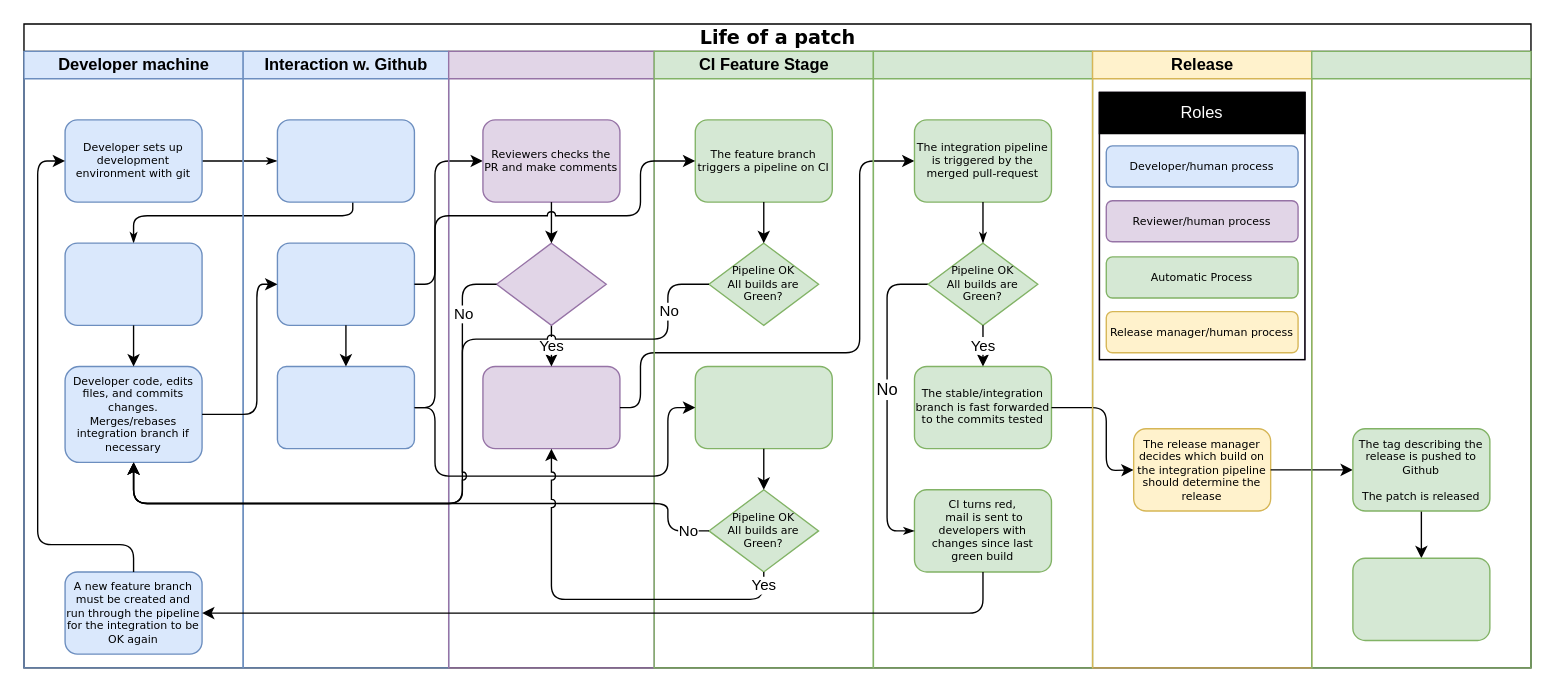
The diagram is 1555 pixels wide and 692 high, and some of its shapes have lost their labels. Each missing label, with the box of its shape:
A pull-request (PR) is made and reviewers are added to the PR: (276, 365, 414, 449)
CI Integration Stage: (872, 50, 1093, 668)
CI Stable/Release stage: (1310, 50, 1531, 668)
Developer creates feature branch for his/her/their work: (64, 242, 202, 325)
Developer pulls latest code from Github: (276, 119, 414, 202)
Developer pushes commits to feature branch on Github: (276, 242, 414, 325)
Developer/reviewer merges PR in Github: (482, 365, 620, 449)
PR is approved: (495, 242, 606, 325)
Pull-request: (447, 50, 654, 668)
The PR pipeline is triggered on CI: (694, 365, 832, 449)
The release is deployed to target(s): (1352, 557, 1490, 640)
